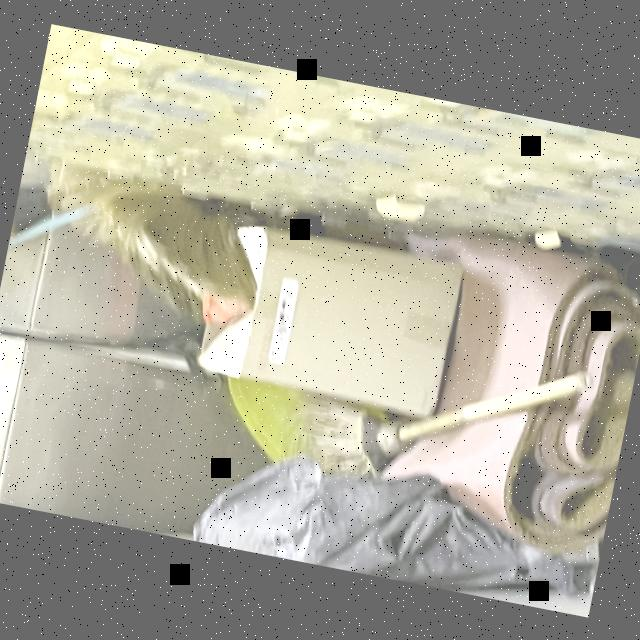cardboard_box: (184, 203, 468, 427)
